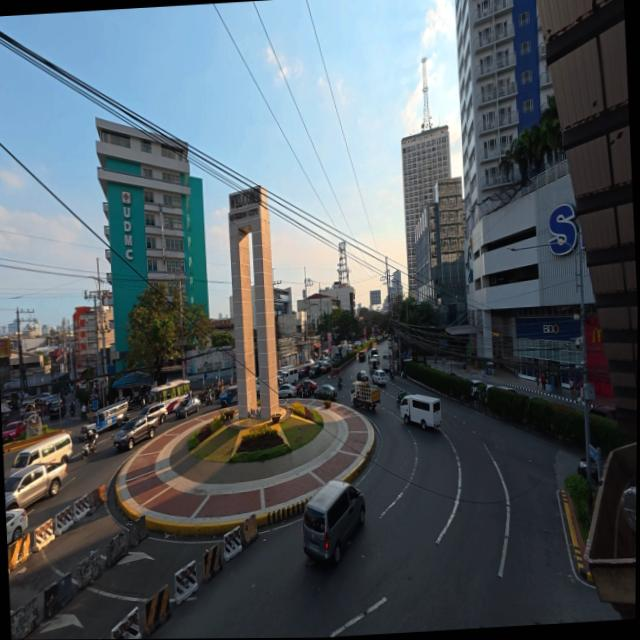car: (113, 418, 156, 453), (166, 394, 200, 420), (372, 370, 391, 388)
vans: (301, 481, 371, 572)
